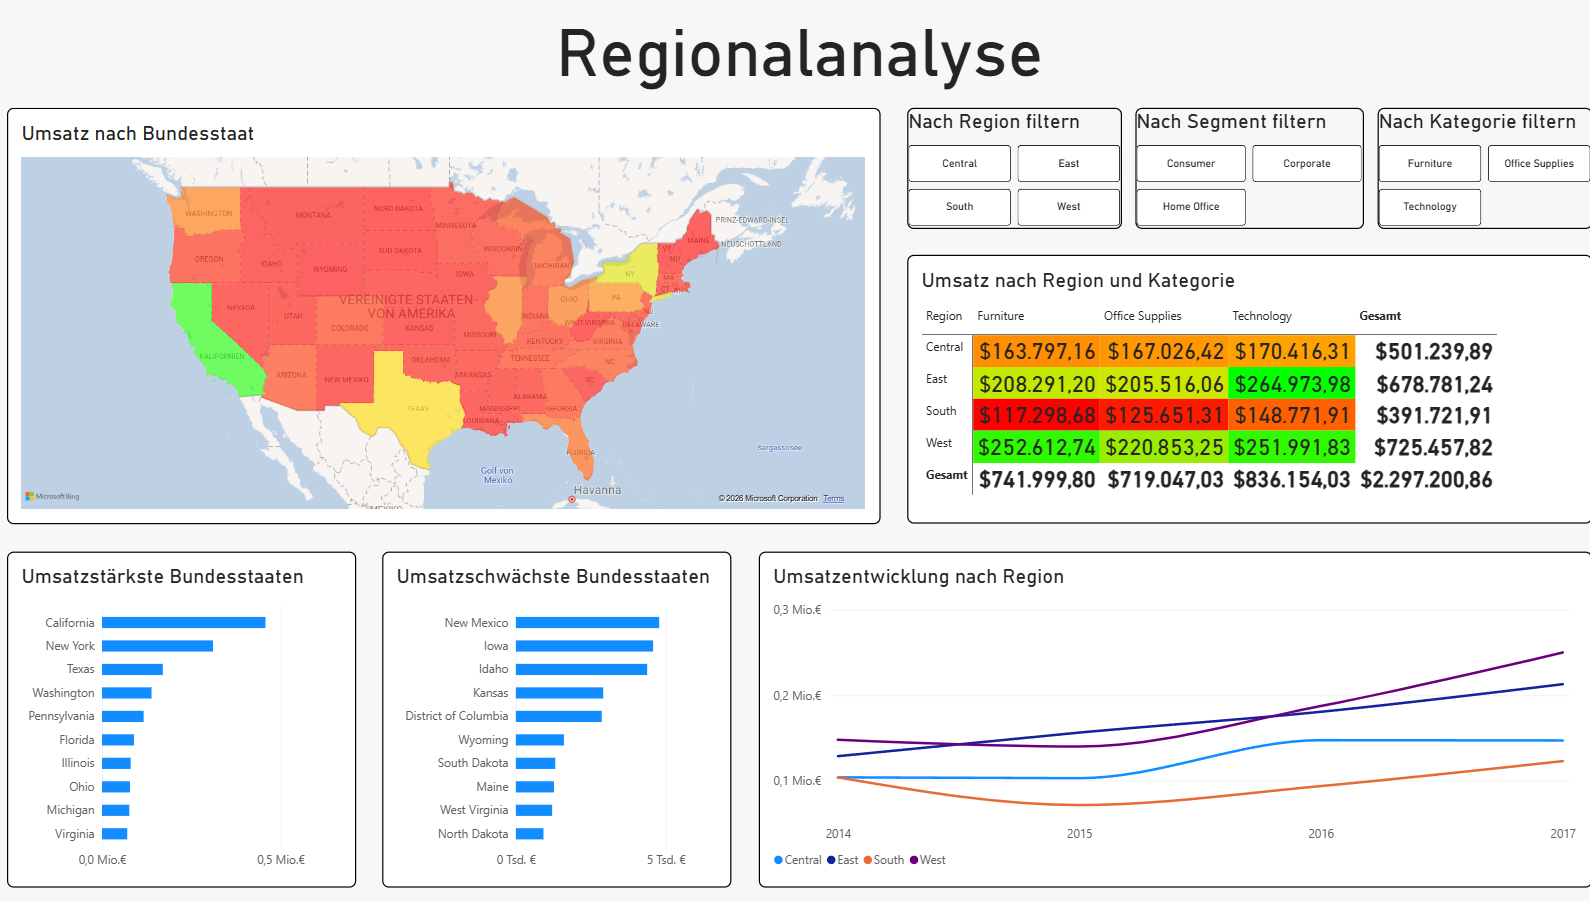

What the dashboard file says about the page in this screenshot:
{"tool":"powerbi","page":{"name":"Regionalanalyse","canvas":[1920,1080],"ordinal":1},"visuals":[{"type":"filledMap","title":"Umsatz nach Bundesstaat","fields":{"Category":["Sample - Superstore.State"]},"box":[16,128,1040,496],"z":0},{"type":"textbox","box":[16,16,1888,96],"z":1000},{"type":"advancedSlicerVisual","title":"Nach Region filtern","fields":{"Values":["Sample - Superstore.Region"]},"box":[1088,128,256,144],"z":2000},{"type":"advancedSlicerVisual","title":"Nach Segment filtern","fields":{"Values":["Sample - Superstore.Segment"]},"box":[1360,128,272,144],"z":3000},{"type":"advancedSlicerVisual","title":"Nach Kategorie filtern","fields":{"Values":["Sample - Superstore.Category"]},"box":[1648,128,256,144],"z":4000},{"type":"clusteredBarChart","title":"Umsatzstärkste Bundesstaaten","fields":{"Category":["Sample - Superstore.State"],"Y":["Sample - Superstore.Umsatz"]},"box":[16,656,416,400],"z":5000},{"type":"clusteredBarChart","title":"Umsatzschwächste Bundesstaaten","fields":{"Category":["Sample - Superstore.State"],"Y":["Sample - Superstore.Umsatz"]},"box":[464,656,416,400],"z":6000},{"type":"lineChart","title":"Umsatzentwicklung nach Region","fields":{"Category":["Sample - Superstore.Order Date.Variation.Datumshierarchie.Jahr","Sample - Superstore.Order Date.Variation.Datumshierarchie.Quartal","Sample - Superstore.Order Date.Variation.Datumshierarchie.Monat","Sample - Superstore.Order Date.Variation.Datumshierarchie.Tag"],"Series":["Sample - Superstore.Region"],"Y":["Sample - Superstore.Umsatz"]},"box":[912,656,992,400],"z":7000},{"type":"pivotTable","title":"Umsatz nach Region und Kategorie","fields":{"Columns":["Sample - Superstore.Category"],"Rows":["Sample - Superstore.Region"],"Values":["Sum(Sample - Superstore.Sales)"]},"box":[1088,304,816,320],"z":8000}]}

Visuals, with their boxes in screenshot pixels (x1, y1, x2, y2), scaled from the page's 1920x1080 canvas onto the 1590x901 screenshot:
"Umsatz nach Bundesstaat" filledMap: box(13, 107, 874, 521)
textbox: box(13, 13, 1577, 93)
"Nach Region filtern" advancedSlicerVisual: box(901, 107, 1113, 227)
"Nach Segment filtern" advancedSlicerVisual: box(1126, 107, 1352, 227)
"Nach Kategorie filtern" advancedSlicerVisual: box(1365, 107, 1577, 227)
"Umsatzstärkste Bundesstaaten" clusteredBarChart: box(13, 547, 358, 881)
"Umsatzschwächste Bundesstaaten" clusteredBarChart: box(384, 547, 729, 881)
"Umsatzentwicklung nach Region" lineChart: box(755, 547, 1577, 881)
"Umsatz nach Region und Kategorie" pivotTable: box(901, 254, 1577, 521)
